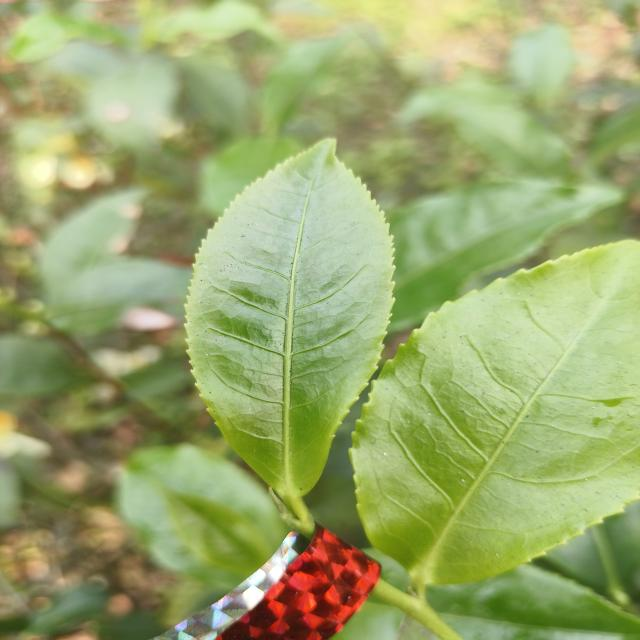Leaf: (352, 241, 640, 592), (187, 140, 393, 498), (389, 179, 619, 332), (117, 444, 289, 588), (398, 78, 569, 176), (428, 565, 640, 640), (40, 189, 143, 300), (87, 54, 178, 148), (169, 492, 274, 572), (261, 38, 345, 133), (200, 137, 299, 216), (9, 12, 124, 62), (510, 25, 575, 109), (0, 333, 84, 395), (156, 0, 274, 42)
